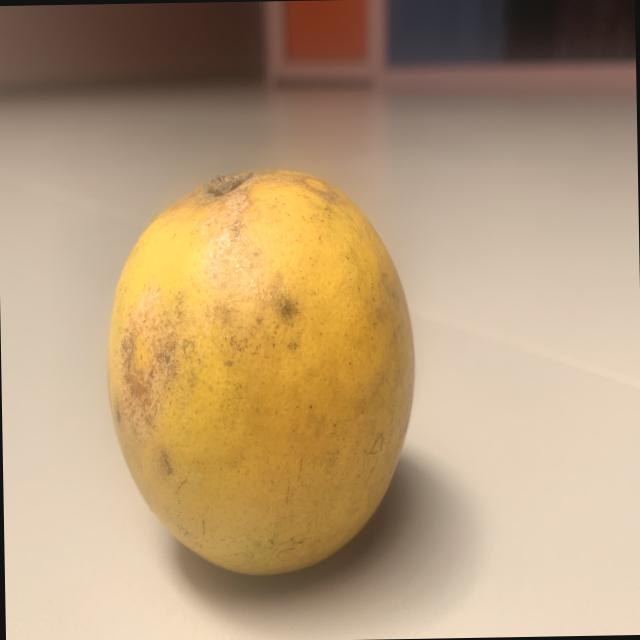Ripe orange: (92, 146, 434, 588)
